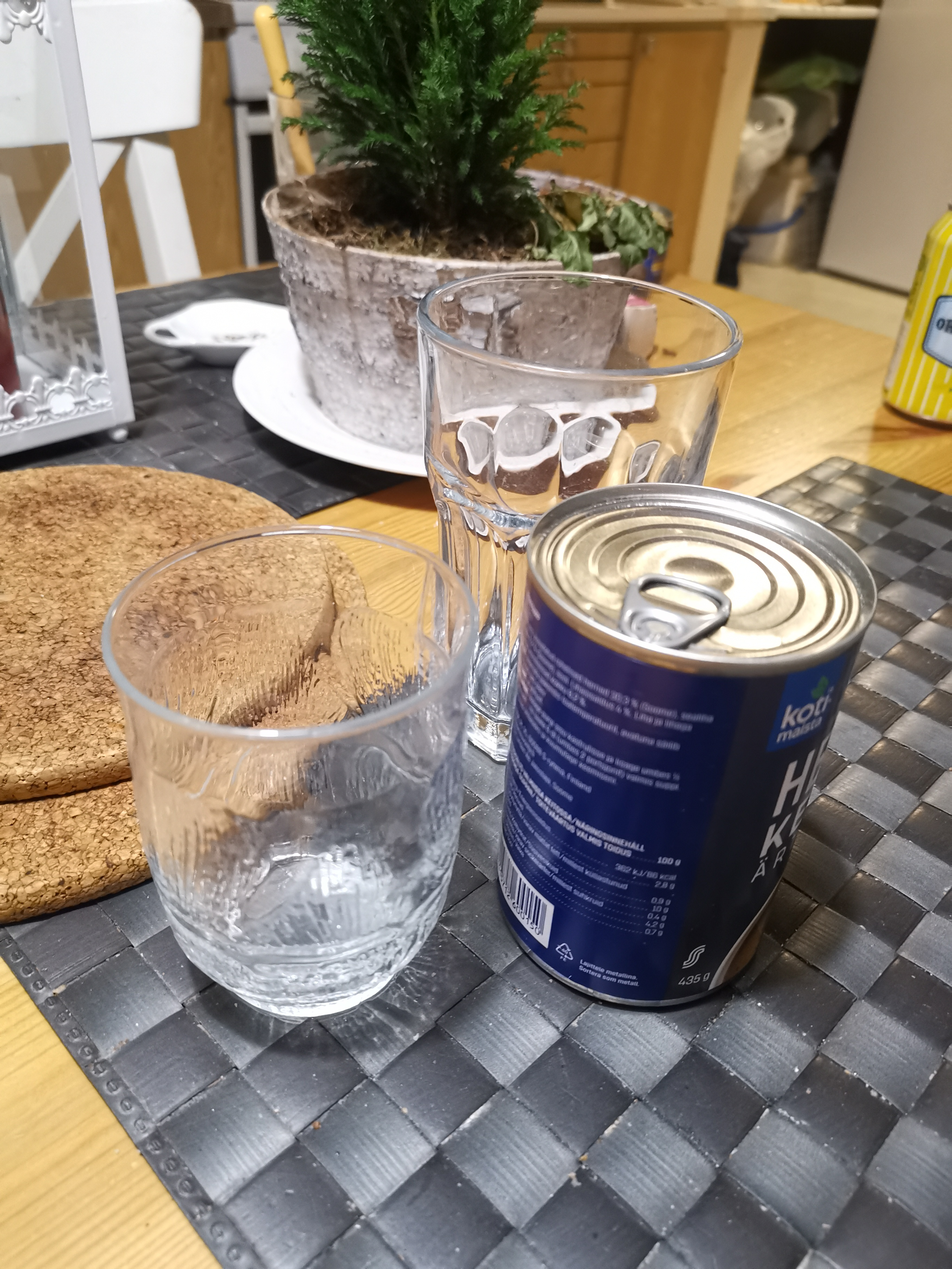Konservburk: (491, 480, 881, 1011)
